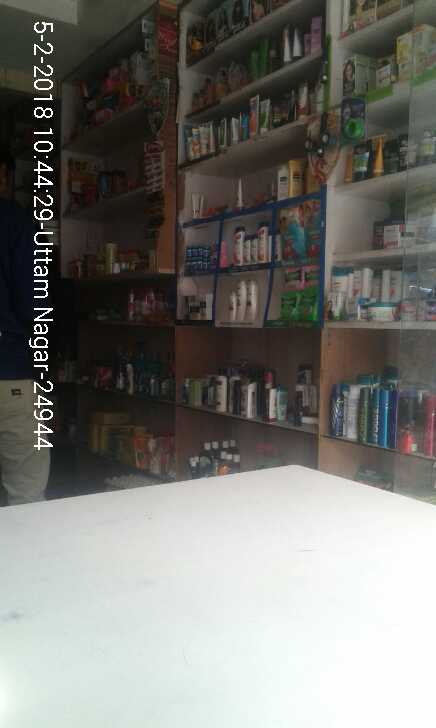vicks: (183, 243, 219, 271)
